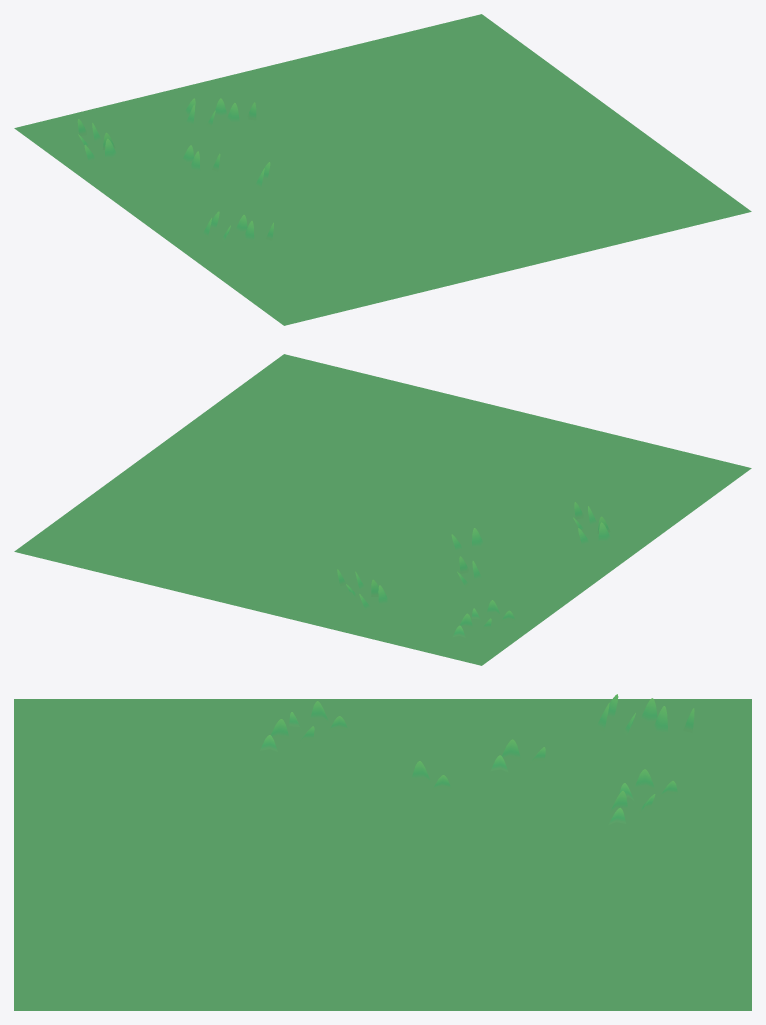
File: GrassTest.fbx
3 views of the same model, one above another, from view 1: azimuth 30°, elevation 25°; view 2: azimuth 150°, elevation 25°; view 3: azimuth 270°, elevation 25° (orthographic). The views are drawn at different scales.
Visible parts, largest first — view 1: GrassPlane; view 2: GrassPlane; view 3: GrassPlane.
Boxes of the visible parts, left/top/right/bottom form: GrassPlane: left=14, top=14, right=751, bottom=325; GrassPlane: left=14, top=354, right=751, bottom=665; GrassPlane: left=14, top=699, right=751, bottom=1010.
Size of the model in its own units: 382 by 13.89 by 382.
